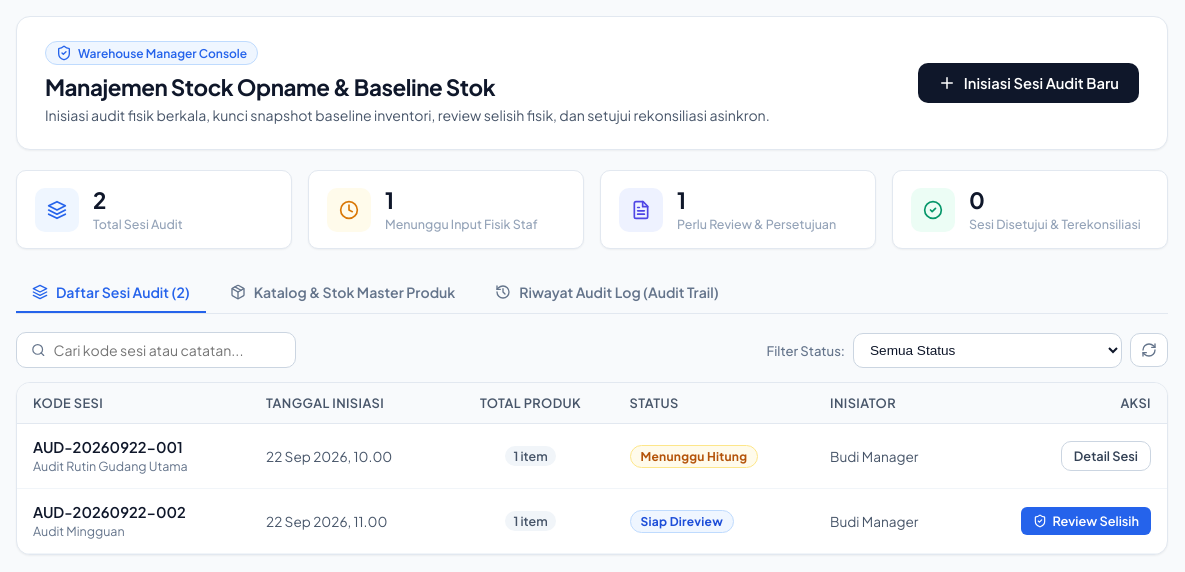
Test case: ManagerDashboard Component Tests › allows switching to product catalog tab and audit logs tab
The width and height of the screenshot is (1185, 572).
# Switch to Products Tab
Click the button "Katalog & Stok Master Produk".
click(343, 293)  # box [214,273,471,313]
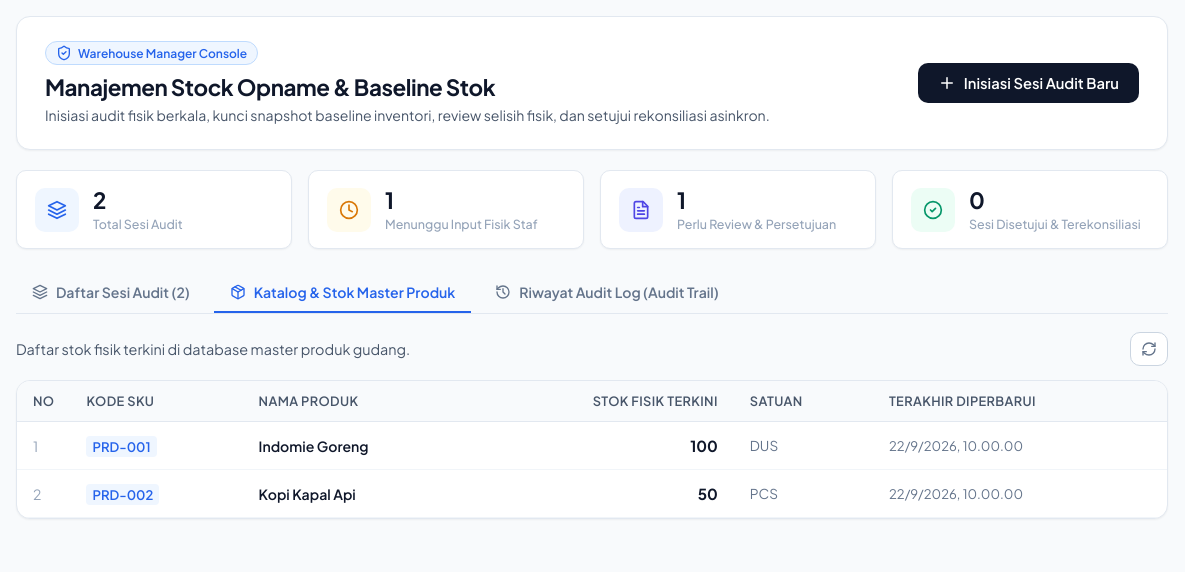
Expected: the text "Indomie Goreng" is shown, [243,422,476,470]
Expected: the text "PRD-001" is shown, [86,436,157,457]
# Switch to Audit Logs Tab
Click the button "Riwayat Audit Log (Audit Trail)".
click(607, 293)  # box [479,273,735,313]
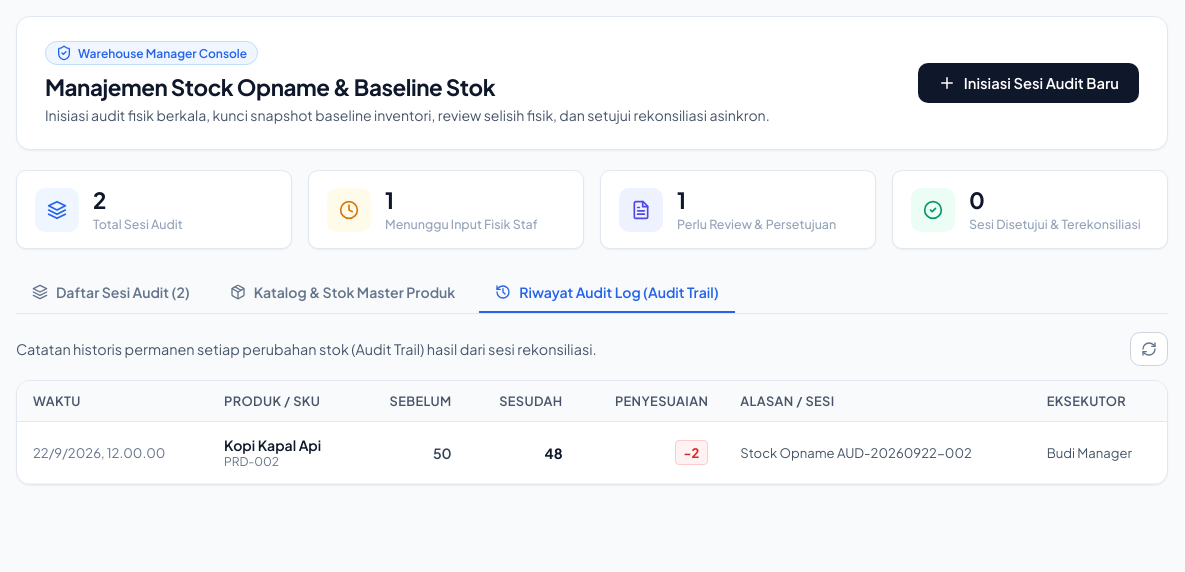
Expected: the text "Stock Opname AUD-20260922-002" is shown, [724,422,1031,484]
